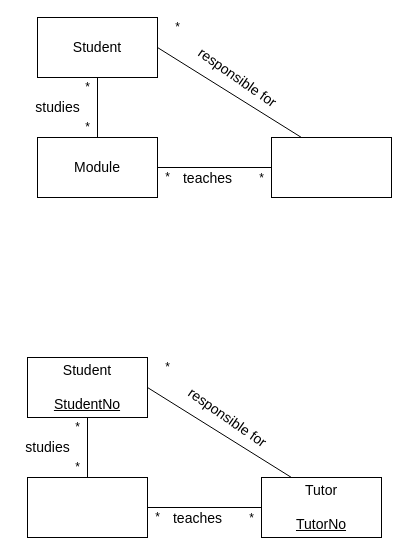
Some shapes in this 409 by 555 pixel diagram are drawn without their labels. The shapes that lost their labels are listed below. From the top down, each one's centre as x and y in pixels, then its label:
(x=331, y=167): Tutor
(x=87, y=507): Module ModuleNo
